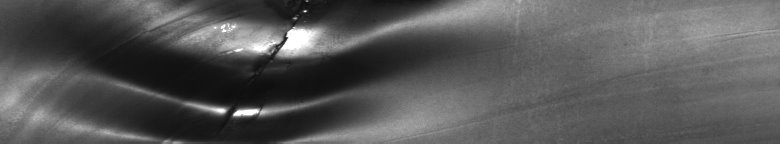ke: (32, 4, 444, 136)
